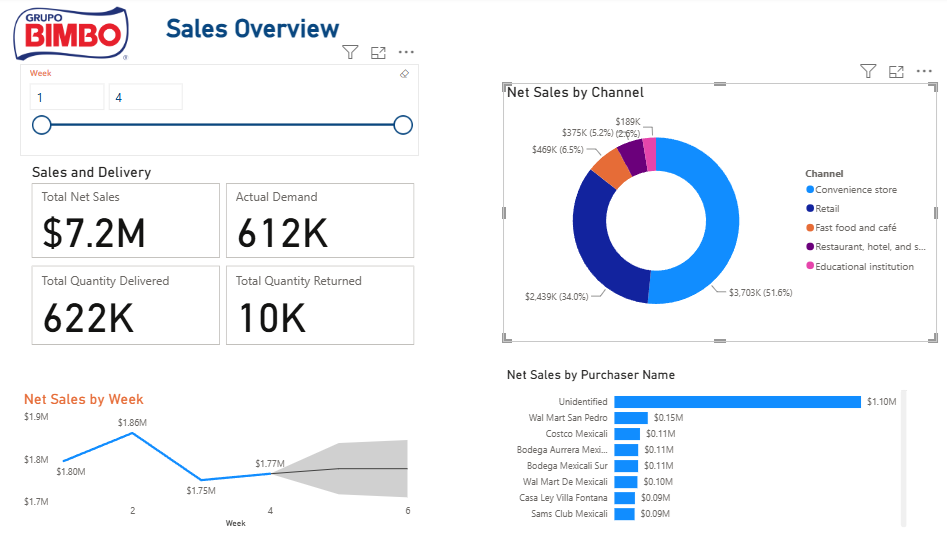

Layout of this report page (visuals, bound fields, positions):
{"tool":"powerbi","page":{"name":"Sales Overview","canvas":[1280,720],"ordinal":0},"visuals":[{"type":"cardVisual","title":"Sales and Delivery ","fields":{"Data":["Measure Table.Total Net Sales","Sum(Sales and Return.Actual Demand)"]},"box":[42.4,221,519.5,131.7],"z":0},{"type":"textbox","box":[209.1,17.5,268.4,47.7],"z":1000},{"type":"image","box":[0,7.8,198.4,81.7],"z":2000},{"type":"slicer","fields":{"Values":["Sales and Return.Week"]},"box":[32.2,89.3,529.8,121.5],"z":3000},{"type":"donutChart","fields":{"Category":["Sales and Return.Channel Name"],"Y":["Sum(Sales and Return.Net Sales)"]},"box":[673.2,114.1,576.6,343.9],"z":4000},{"type":"cardVisual","fields":{"Data":["Sum(Sales and Return.Quantity Delivered)","Sum(Sales and Return.Quantity Returned)"]},"box":[42.4,352.7,519.5,115.6],"z":5000},{"type":"lineChart","title":"Net Sales by Week","fields":{"Category":["Sales and Return.Week"],"Y":["Sum(Sales and Return.Net Sales)"]},"box":[32.2,522.4,529.8,187.3],"z":6000},{"type":"clusteredBarChart","title":"Net Sales by Purchaser Name","fields":{"Category":["Sales and Return.Purchaser Name"],"Y":["Sum(Sales and Return.Net Sales)"]},"box":[673.2,491.7,541.5,218],"z":7000}]}

Visuals, with their boxes in screenshot pixels (x1, y1, x2, y2), scaled from the page's 1280x720 canvas onto the 947x533 screenshot:
"Sales and Delivery " cardVisual: <region>31, 164, 416, 261</region>
textbox: <region>155, 13, 353, 48</region>
image: <region>0, 6, 147, 66</region>
slicer - Sales and Return.Week: <region>24, 66, 416, 156</region>
donutChart - Sales and Return.Channel Name x Sum(Sales and Return.Net Sales): <region>498, 84, 925, 339</region>
cardVisual - Sum(Sales and Return.Quantity Delivered) x Sum(Sales and Return.Quantity Returned): <region>31, 261, 416, 347</region>
"Net Sales by Week" lineChart: <region>24, 387, 416, 525</region>
"Net Sales by Purchaser Name" clusteredBarChart: <region>498, 364, 899, 525</region>
